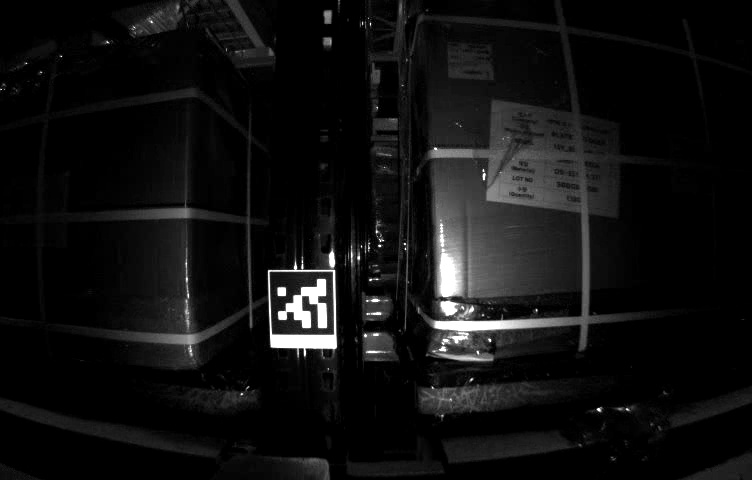True Barcode: (444, 41, 494, 80)
